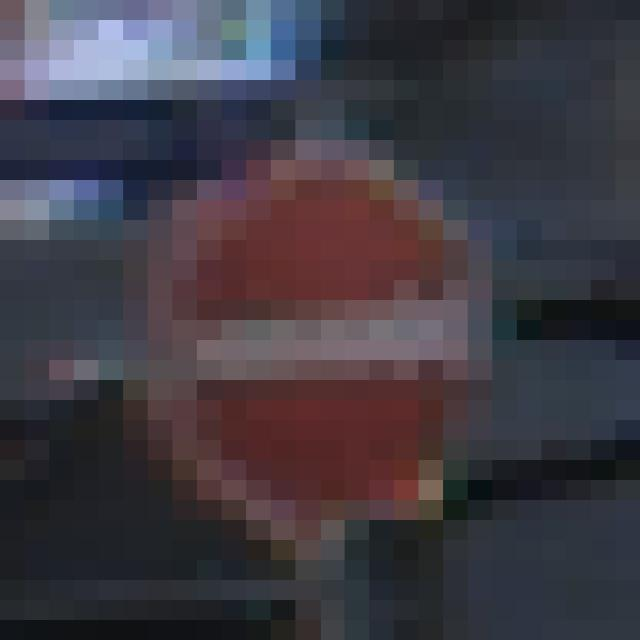No Entry: (124, 121, 518, 541)
